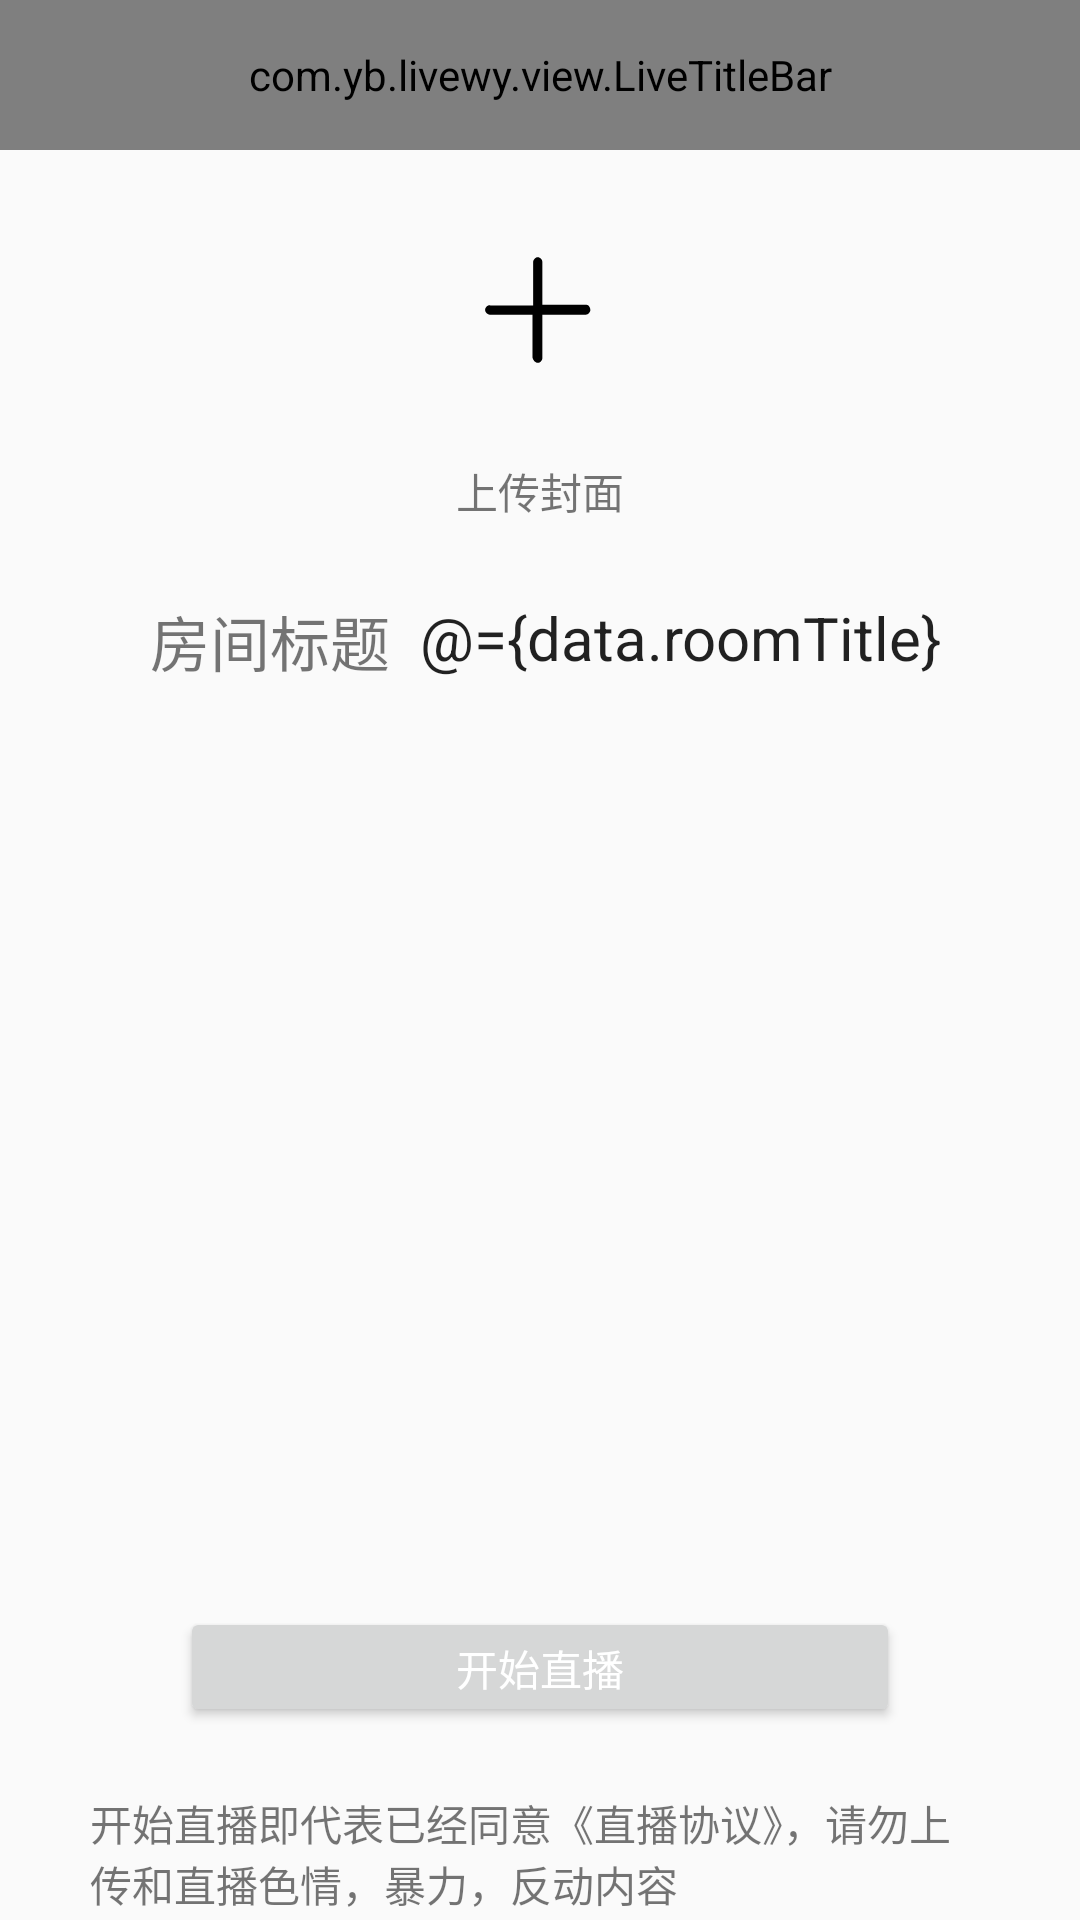

Screen size 1080 × 1920. Icon name, then its box in pixels as BBox(x1, y1, x2, y2):
add: BBox(485, 257, 591, 363)
